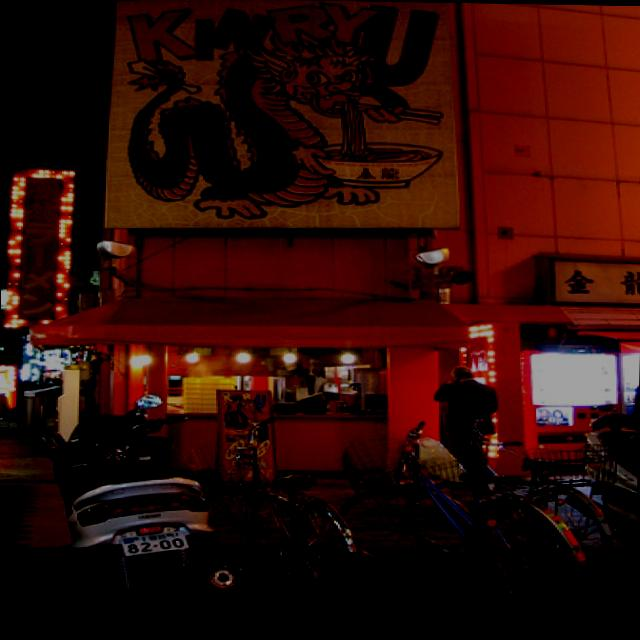Vehicle: (48, 392, 240, 588), (578, 412, 638, 568)
